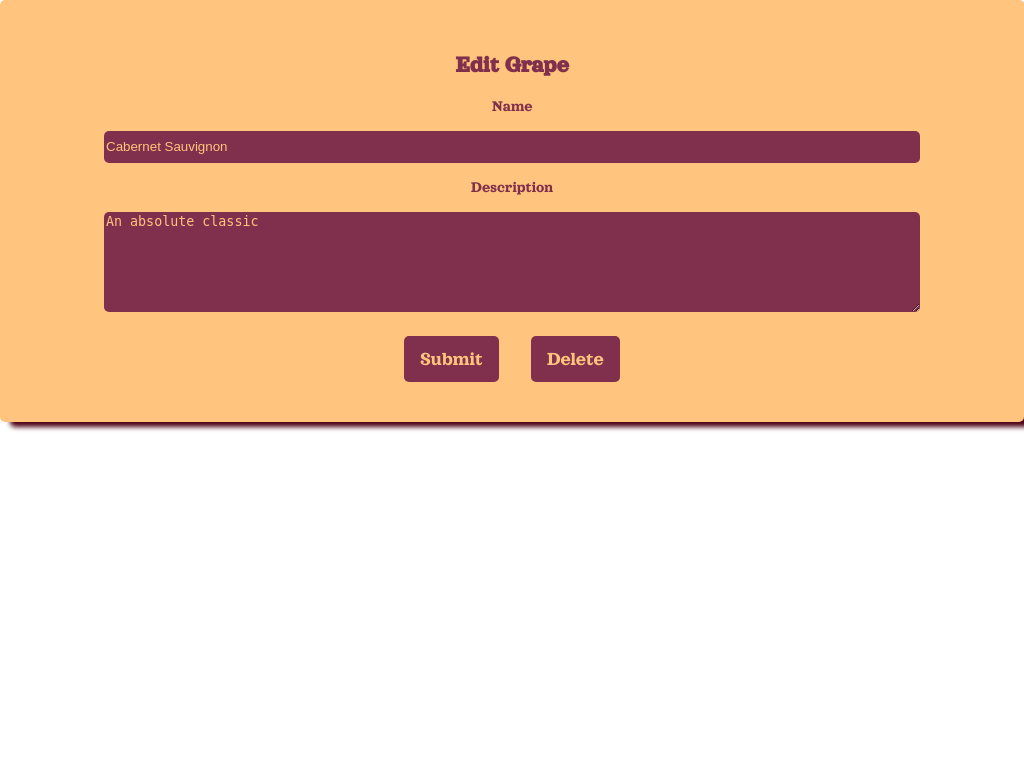
Test: <EditGrape /> › handles delete errors correctly
The image size is (1024, 768).
Click the button "Delete".
click(575, 359)  # box [531, 336, 620, 382]
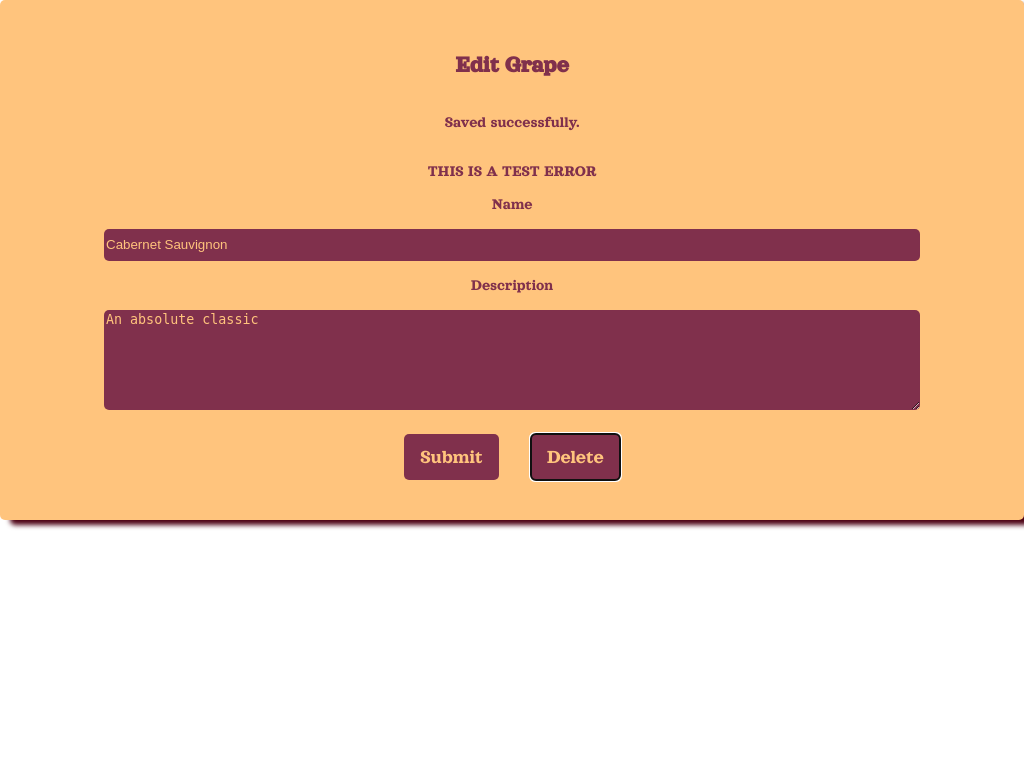
expect the text "THIS IS A TEST ERROR" is shown: met, box [428, 163, 596, 180]
